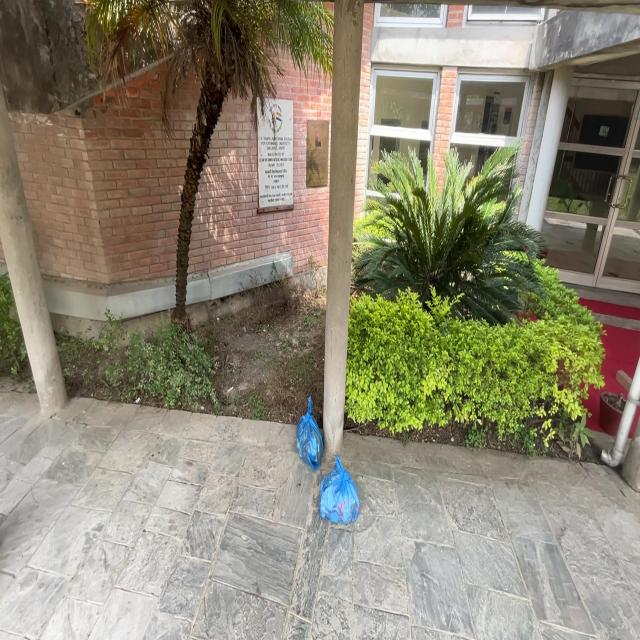garbage: (316, 466, 368, 542), (289, 410, 329, 483)
